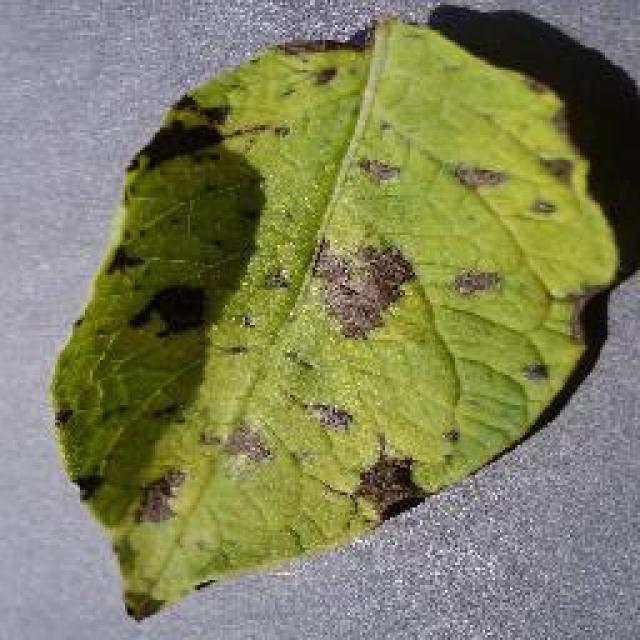Potato___Early_blight: (47, 13, 626, 626)
